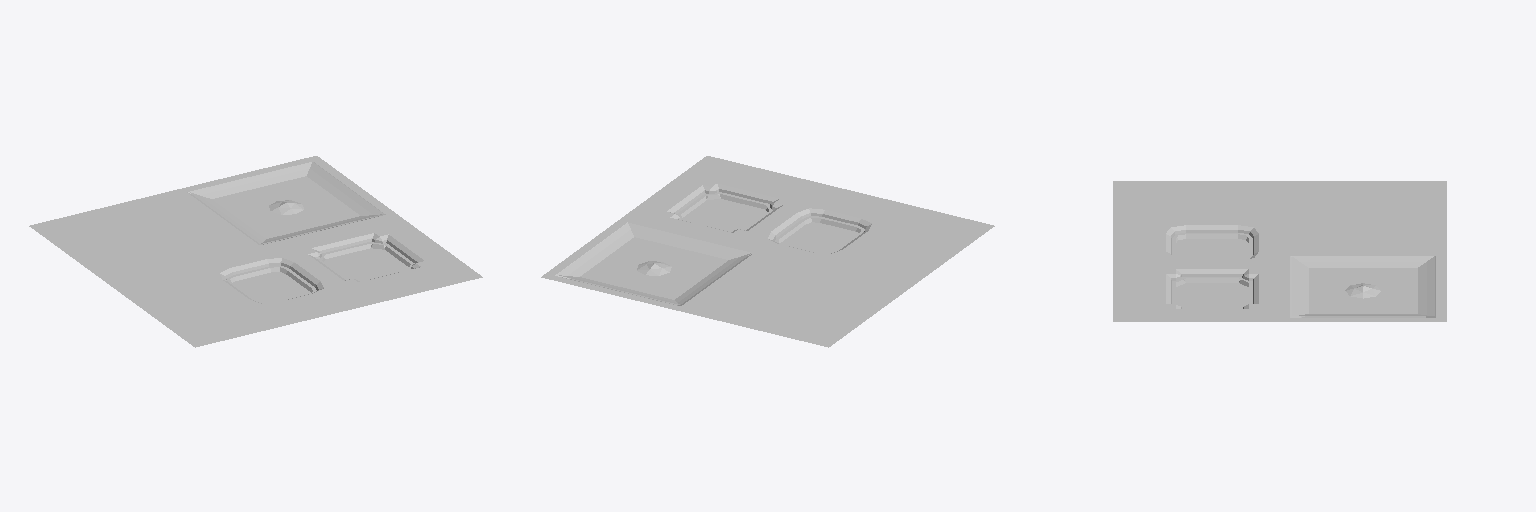
The model's file is TestWater.obj.
The picture shows the model from 3 angles: view 1: azimuth 30°, elevation 25°; view 2: azimuth 150°, elevation 25°; view 3: azimuth 270°, elevation 25°; orthographic projection.
Visible parts, largest first — view 1: map; view 2: map; view 3: map.
Boxes of the visible parts, x1=… form: map: x1=29, y1=156, x2=482, y2=347; map: x1=541, y1=156, x2=994, y2=347; map: x1=1113, y1=181, x2=1446, y2=321.
Size of the model in its own units: 32 by 1.06 by 32.